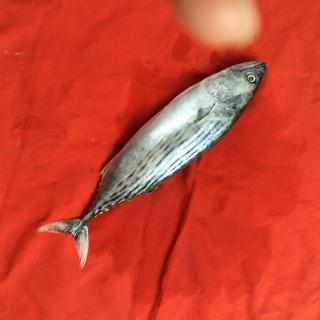Ikan: (30, 53, 273, 277)
